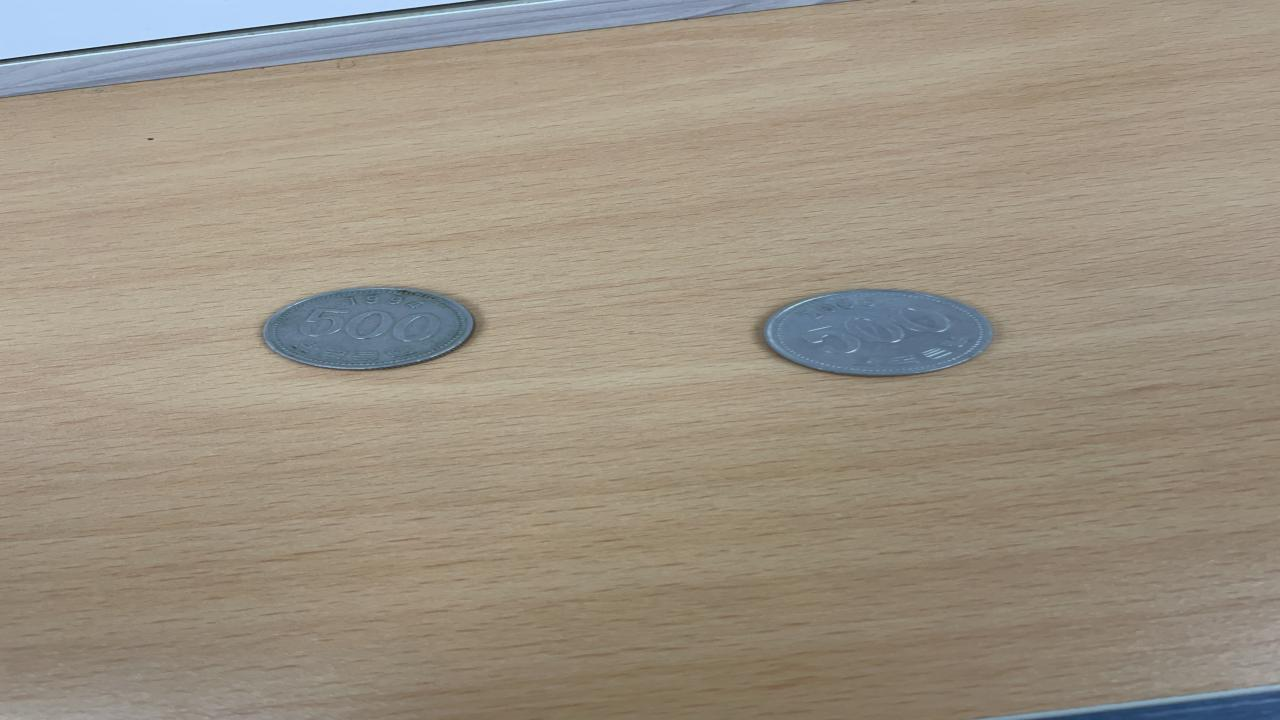coin: (758, 287, 996, 378), (256, 285, 480, 373)
